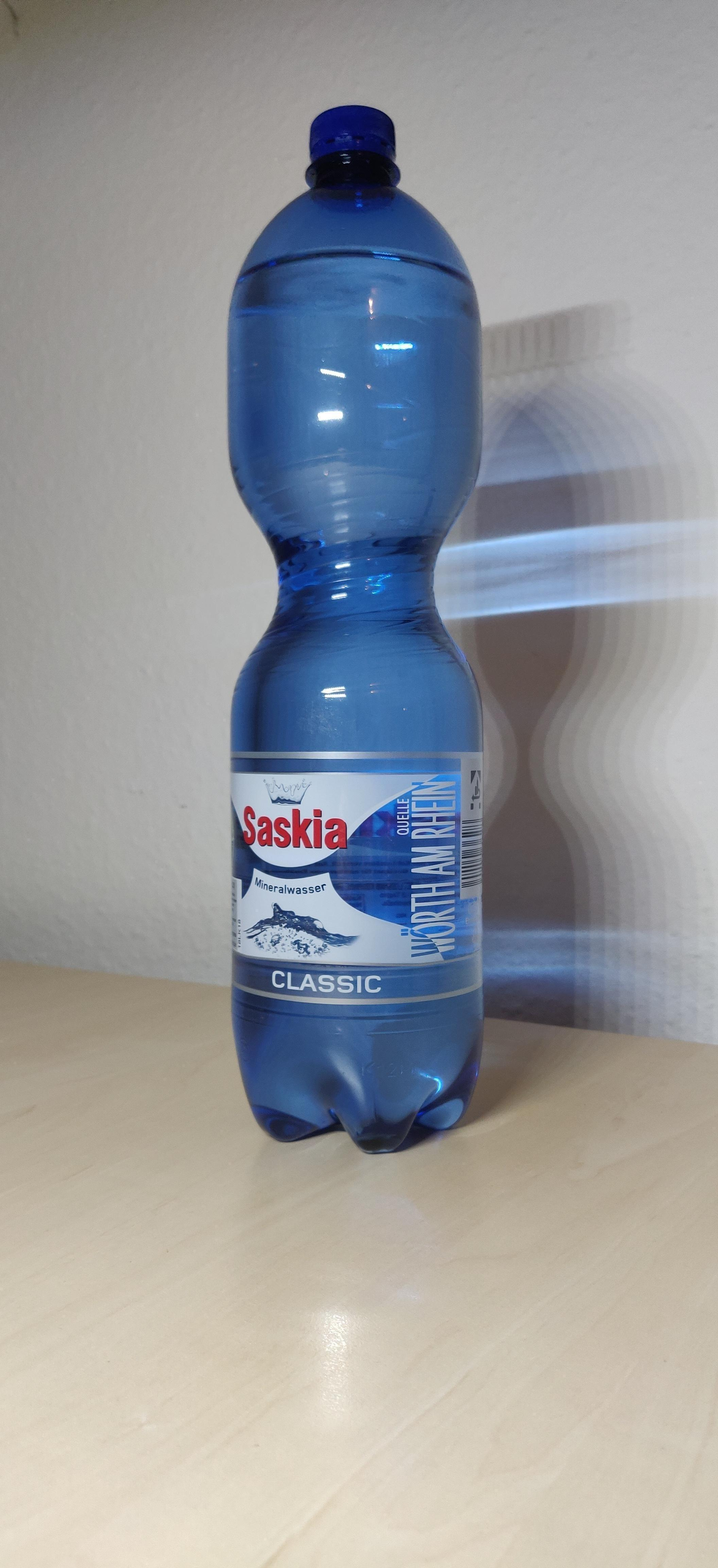bottle-plastic: (227, 104, 485, 1157)
